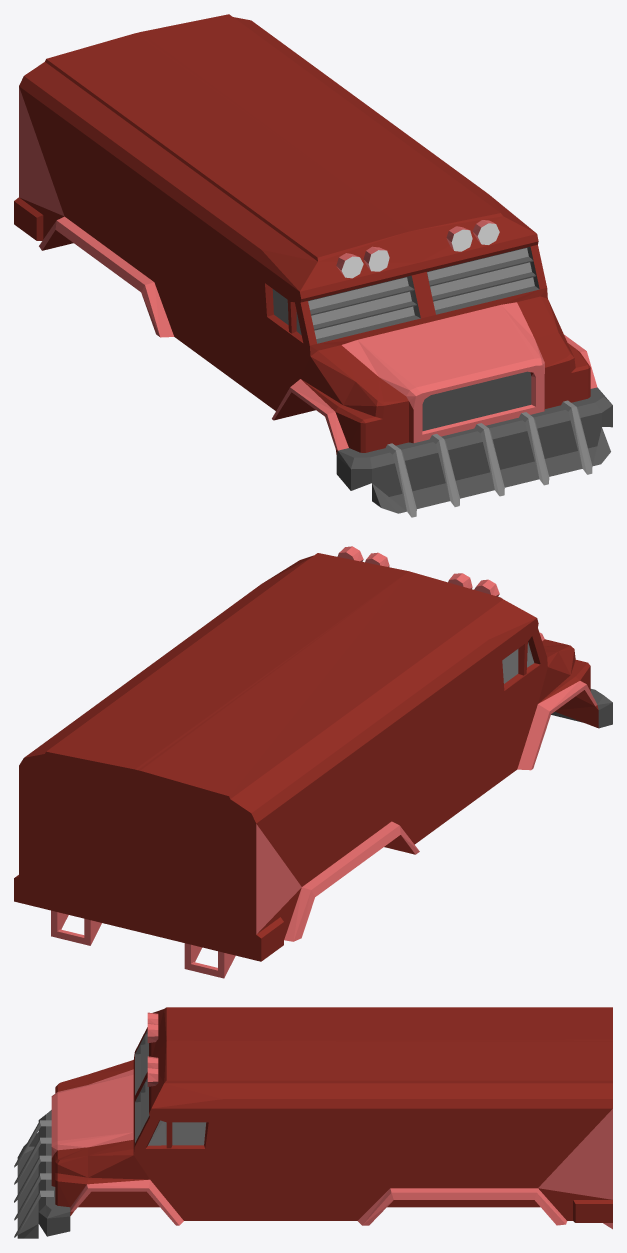
The model's file is Vehicle battle bus.glb.
3 renders of one model, top to bottom at view 1: azimuth 30°, elevation 25°; view 2: azimuth 150°, elevation 25°; view 3: azimuth 270°, elevation 25°, orthographic. The views are drawn at different scales.
Visible parts, largest first — view 1: battle bus; view 2: battle bus; view 3: battle bus.
Part boxes in pixels (bbox=[...]): battle bus: bbox=[14, 14, 612, 517]; battle bus: bbox=[14, 546, 612, 978]; battle bus: bbox=[14, 1007, 612, 1238].
Size of the model in its own units: 3.53 by 2.53 by 8.51.
